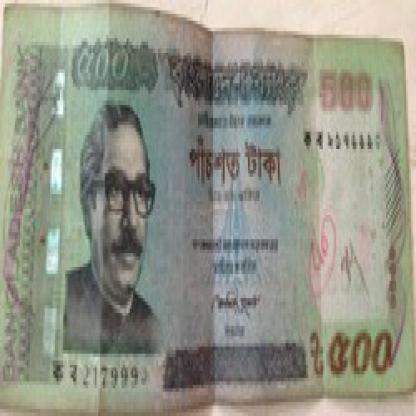500 taka: (322, 322, 404, 382), (72, 38, 140, 90)
currency: (3, 11, 414, 402)
